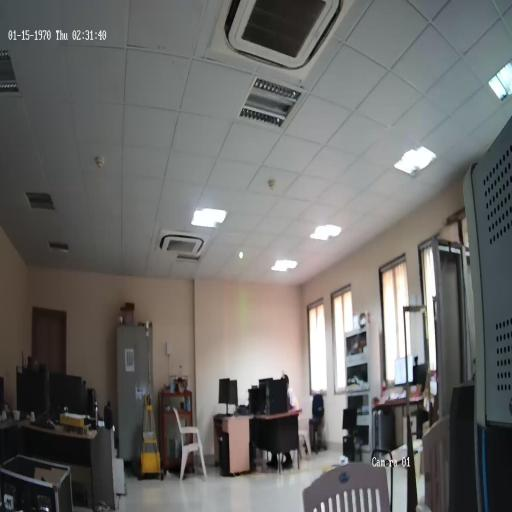laser: (238, 249, 244, 261)
